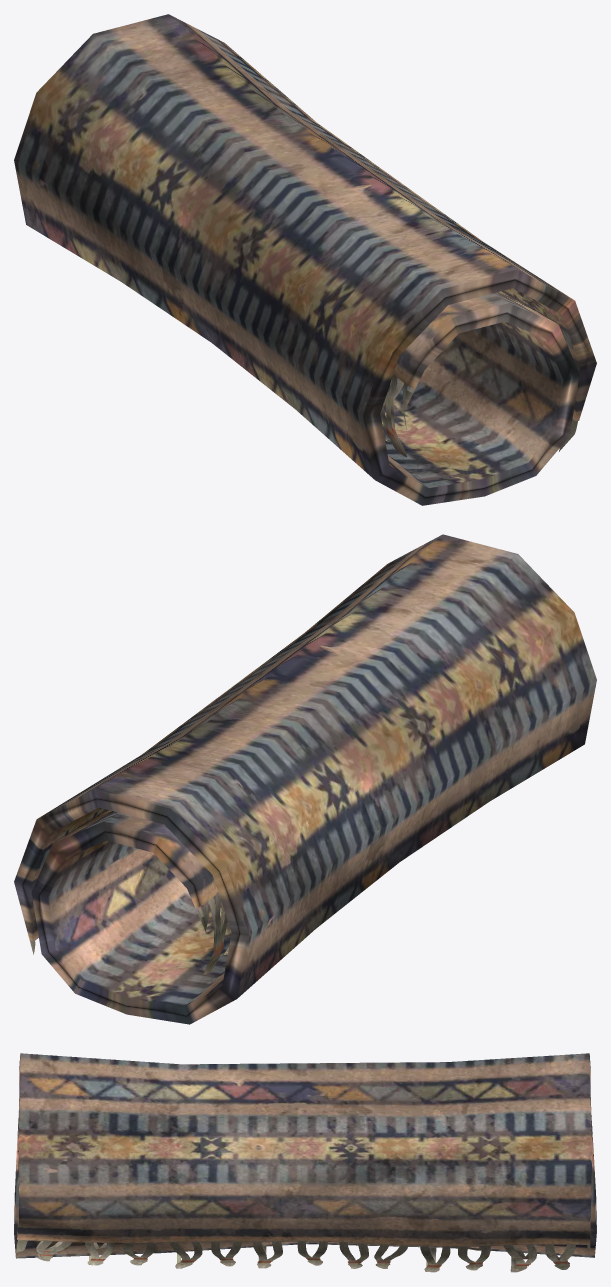
3 views of the same model, one above another, from view 1: azimuth 30°, elevation 25°; view 2: azimuth 150°, elevation 25°; view 3: azimuth 270°, elevation 25° (orthographic). The views are drawn at different scales.
Parts seen in each view (by area): view 1: SM_Moon_Garou_Decoration_Carpet_01v3_LOD0; view 2: SM_Moon_Garou_Decoration_Carpet_01v3_LOD0; view 3: SM_Moon_Garou_Decoration_Carpet_01v3_LOD0.
Boxes of the visible parts, x1,y1,x2,y2 form: SM_Moon_Garou_Decoration_Carpet_01v3_LOD0: (14,14,596,505); SM_Moon_Garou_Decoration_Carpet_01v3_LOD0: (14,534,596,1024); SM_Moon_Garou_Decoration_Carpet_01v3_LOD0: (14,1053,596,1272).
Bounding box in the file's own units: 0.3874 × 0.3568 × 1.02.
